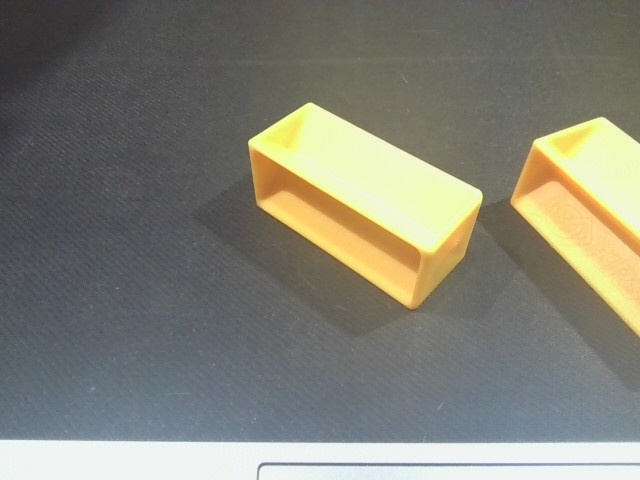YellowSample: (244, 98, 485, 315), (507, 113, 640, 339)
